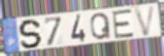4: (69, 13, 87, 44)
7: (44, 15, 63, 47)
E: (111, 7, 136, 39)
Q: (90, 12, 113, 41)
S: (17, 19, 44, 50)
V: (132, 4, 157, 37)
